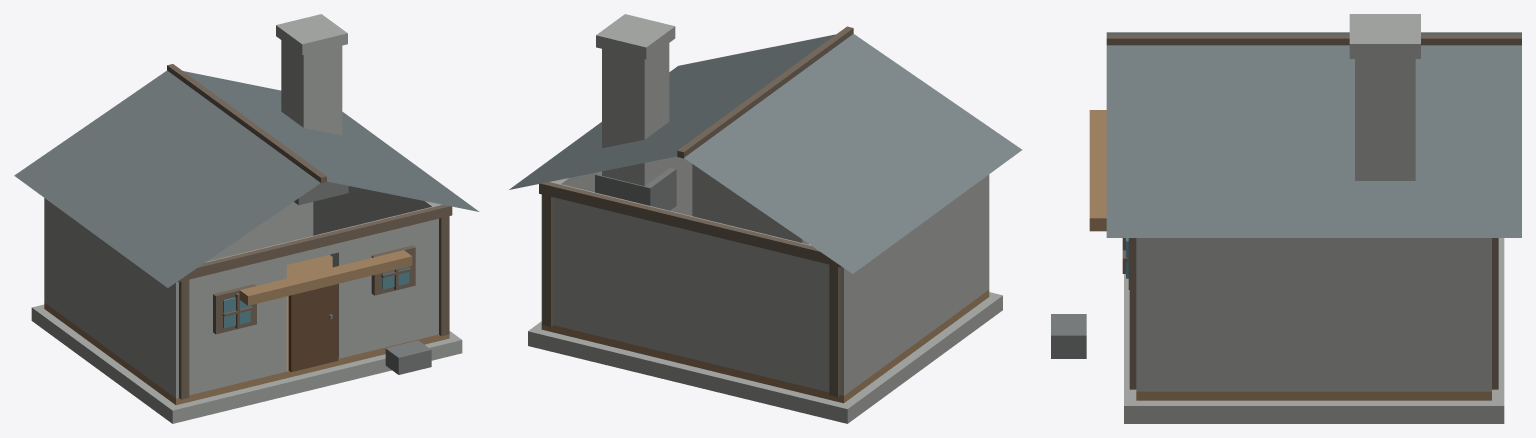
File: forge.glb
3 renders of one model, left to right at view 1: azimuth 30°, elevation 25°; view 2: azimuth 150°, elevation 25°; view 3: azimuth 270°, elevation 25°, orthographic. The views are drawn at different scales.
Parts seen in each view (by area): view 1: Player; view 2: Player; view 3: Player.
Part boxes in pixels (box(x1,y1,x2,y2)): Player: box(14, 14, 479, 423); Player: box(509, 14, 1021, 423); Player: box(1051, 14, 1521, 423).
Bounding box in the file's own units: 6.84 × 5.58 × 6.62.
